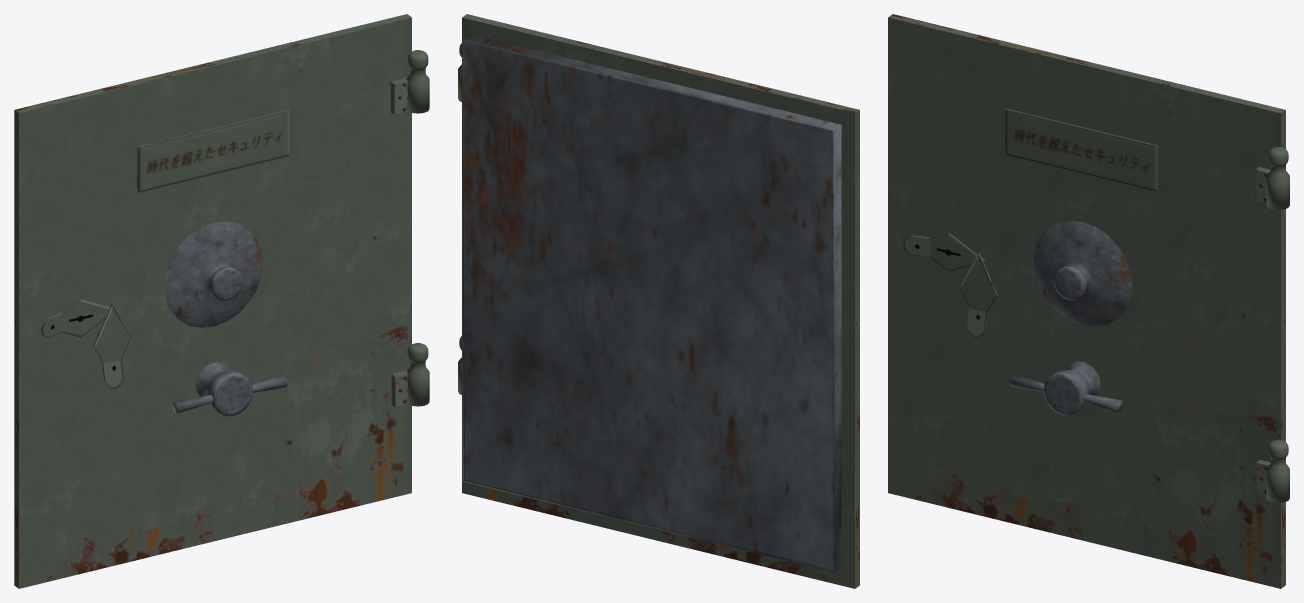
Rendered from SafeDoor.fbx.
3 renders of one model, left to right at view 1: azimuth 30°, elevation 25°; view 2: azimuth 150°, elevation 25°; view 3: azimuth 330°, elevation 25°, orthographic.
Visible parts, largest first — view 1: Cube.001_Material.001_0.003; view 2: Cube.001_Material.001_0.003; view 3: Cube.001_Material.001_0.003.
Part boxes in pixels (left/top/right/bottom): Cube.001_Material.001_0.003: left=14, top=14, right=429, bottom=588; Cube.001_Material.001_0.003: left=458, top=14, right=859, bottom=588; Cube.001_Material.001_0.003: left=888, top=14, right=1289, bottom=588.
Size of the model in its own units: 59.04 by 66.29 by 8.01.
